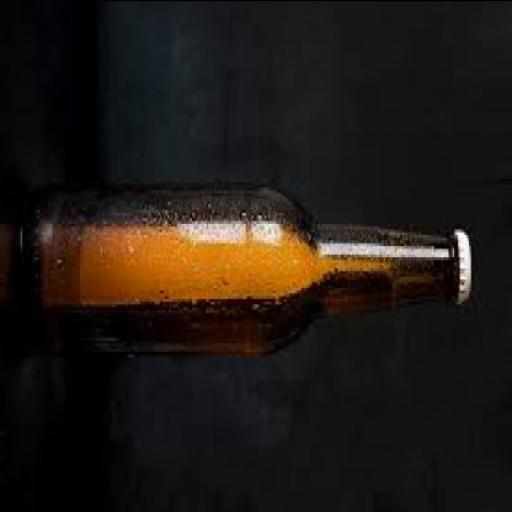glass: (19, 178, 460, 354)
metal: (456, 226, 474, 295)
